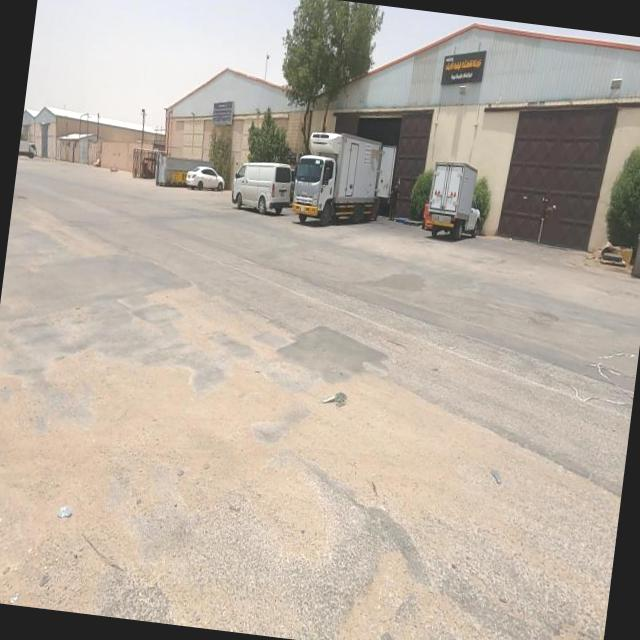debris: (22, 470, 112, 553), (298, 364, 364, 440)
